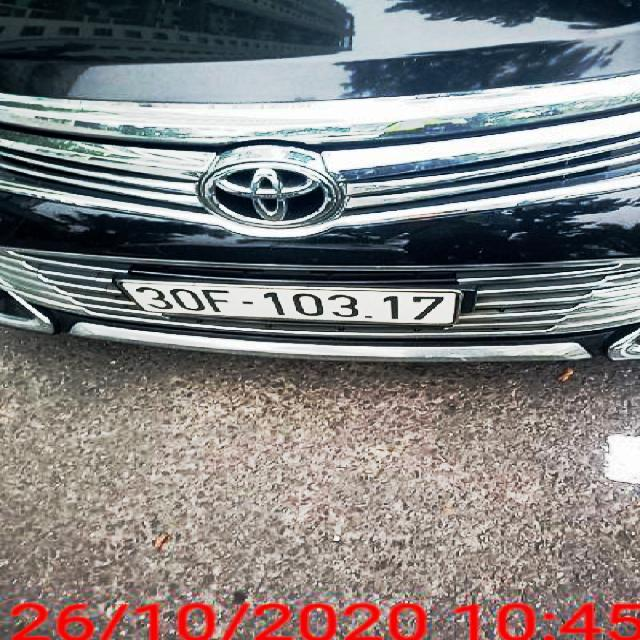license_plate: (121, 282, 462, 325)
